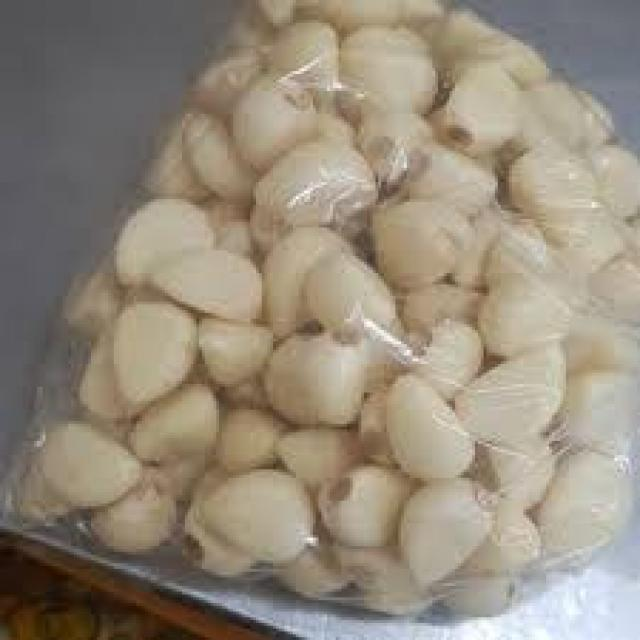garlic: (114, 219, 361, 481)
